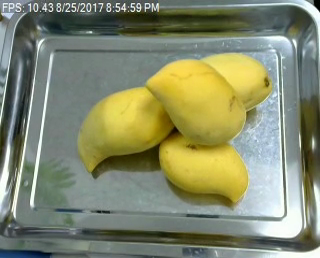Mango: (143, 57, 247, 148), (72, 83, 176, 171), (152, 130, 250, 204), (194, 51, 272, 109)
